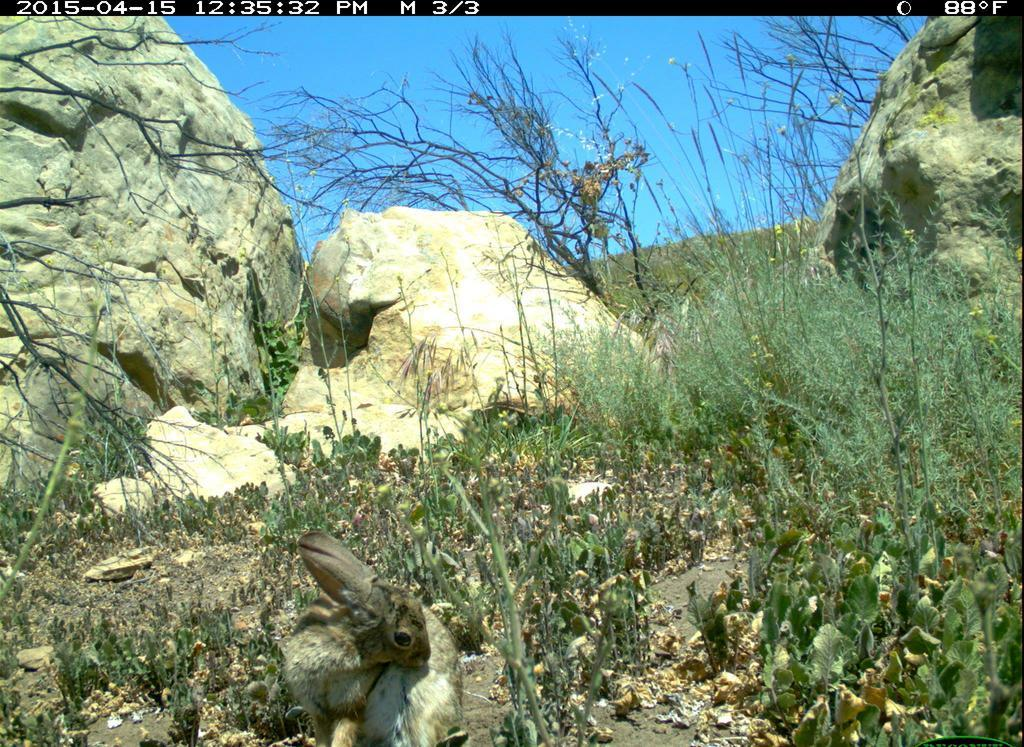rabbit: (274, 523, 468, 747)
